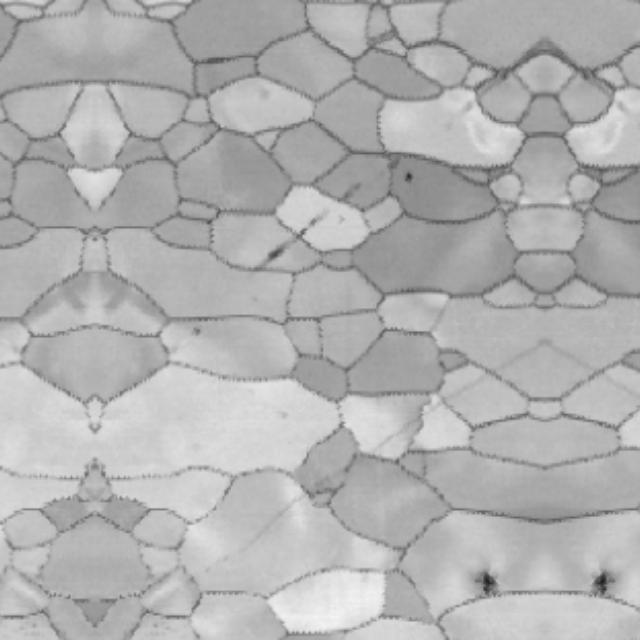good_void: (264, 240, 294, 263), (469, 564, 506, 582), (586, 564, 623, 582), (399, 165, 424, 190), (252, 84, 276, 104), (191, 325, 208, 338), (278, 409, 291, 425)
